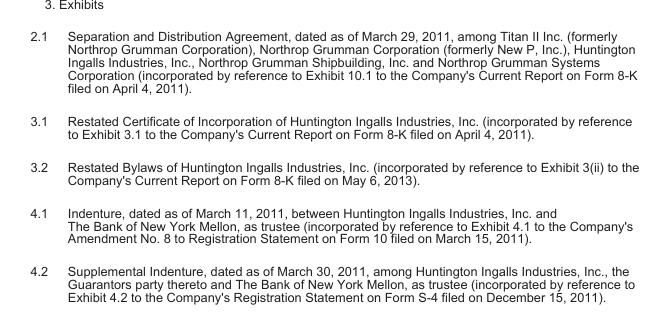table: (29, 28, 638, 303)
table column: (57, 28, 638, 303), (29, 28, 57, 303)
table row: (29, 28, 638, 103), (29, 195, 638, 254), (29, 254, 638, 303), (29, 103, 638, 149), (29, 149, 638, 195)
